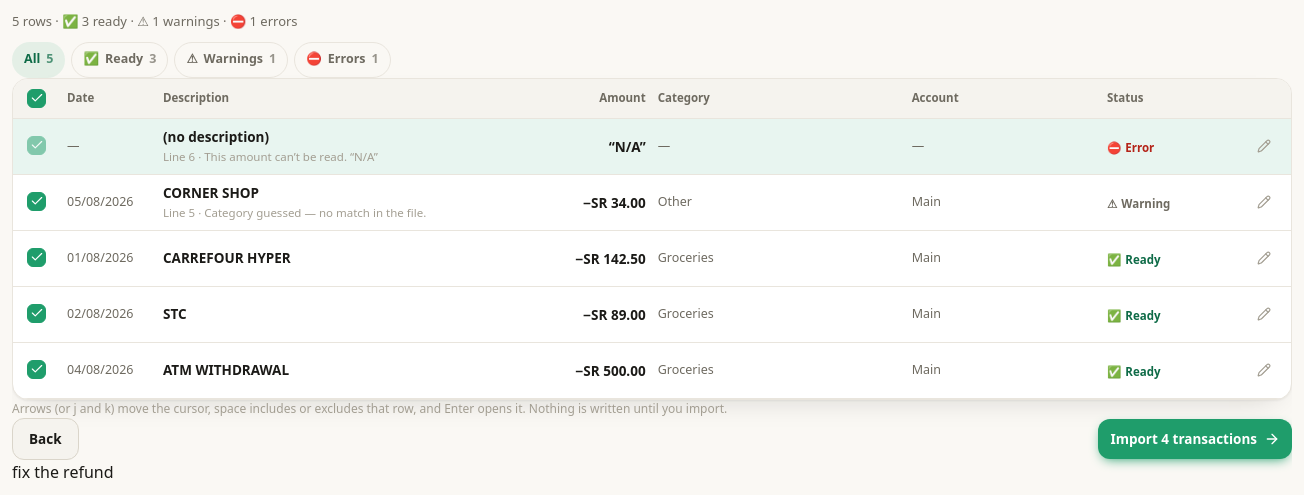
ReviewStep › excluding a row decrements the count
Click the checkbox named "Include row 1" at [36, 257], box [27,248,46,266]
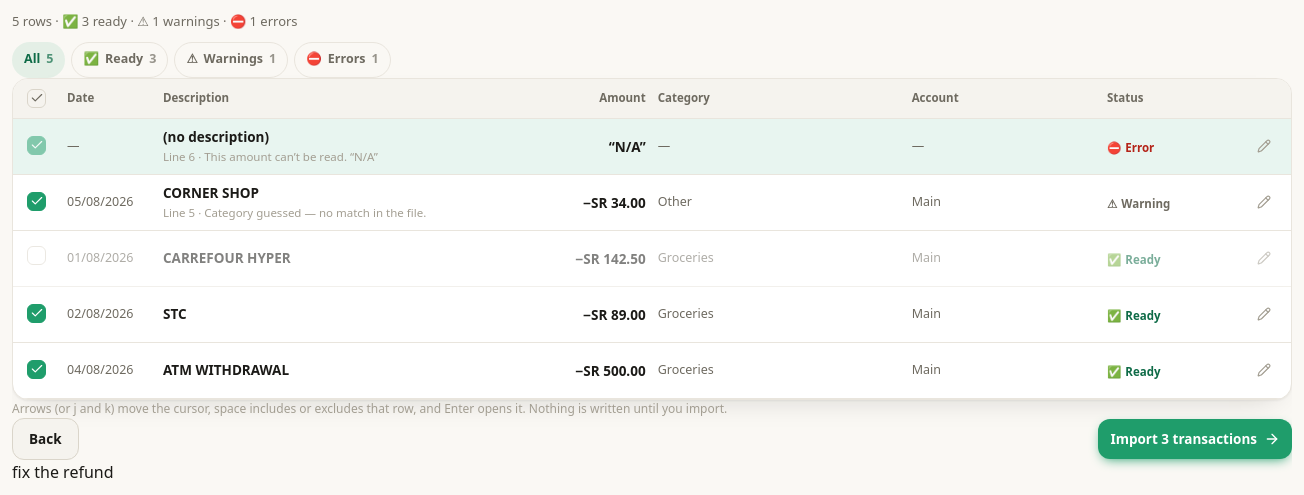
Now the button "Import 3 transactions" is shown, box [1098,418,1292,459]
